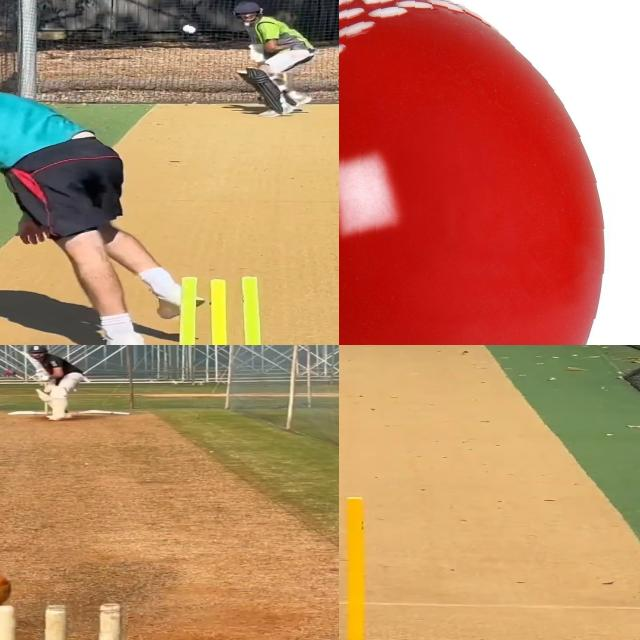Cricket ball: (339, 0, 623, 345), (180, 24, 197, 34), (4, 369, 16, 376)
Stumps: (339, 488, 384, 640)
